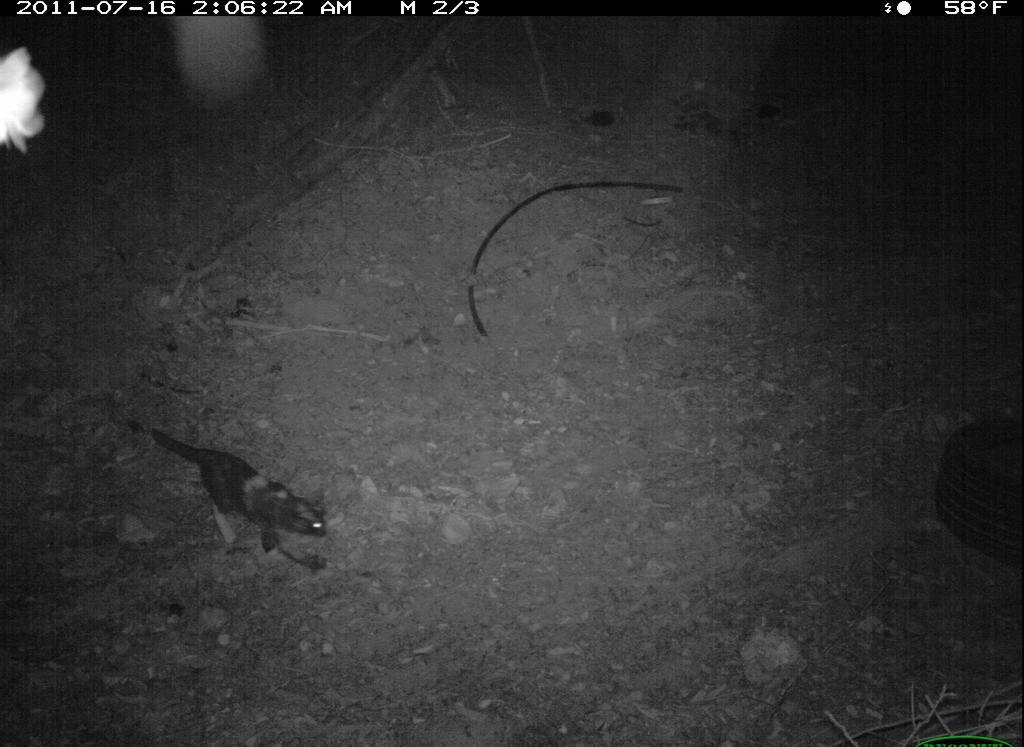cat: (139, 420, 342, 568)
